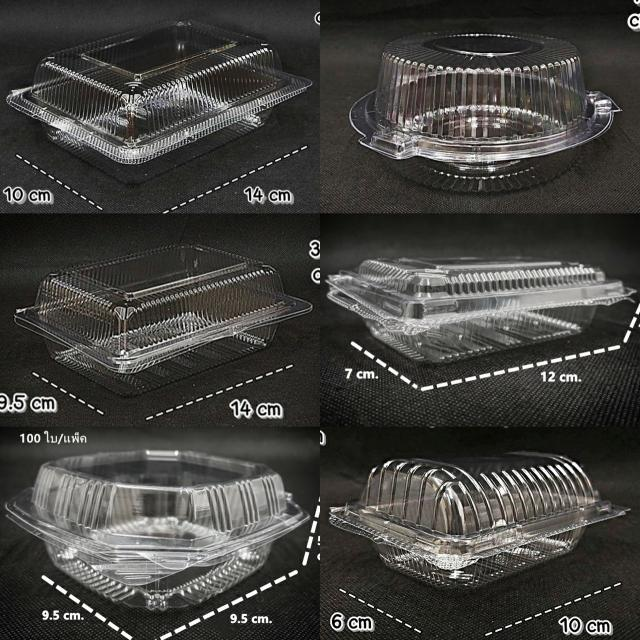Single-Use-Plastic: (8, 21, 311, 183), (6, 450, 309, 610), (14, 245, 313, 396), (349, 32, 619, 192), (330, 451, 627, 588), (327, 258, 633, 362)
